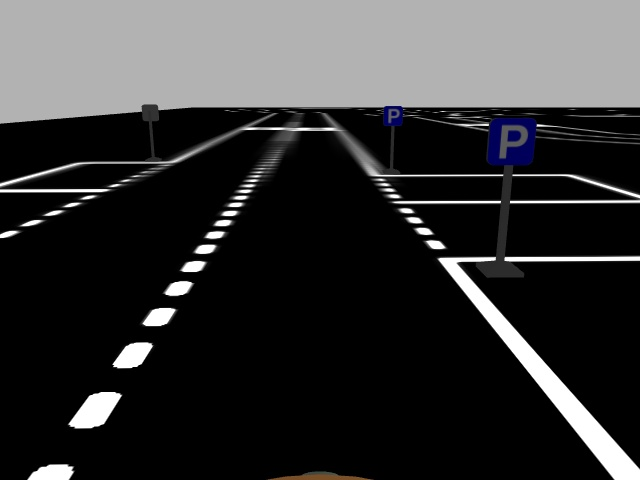parking: (486, 117, 536, 165), (382, 104, 403, 126)
